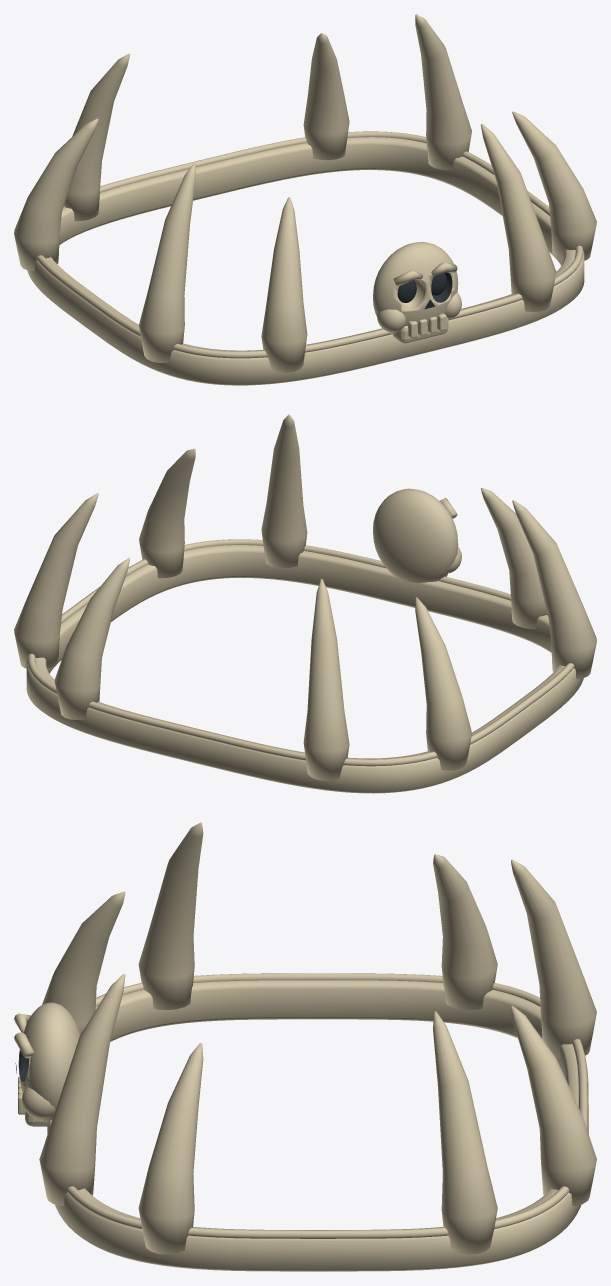
The model's file is bone-crown.glb.
The picture shows the model from 3 angles, top to bottom: view 1: azimuth 30°, elevation 25°; view 2: azimuth 150°, elevation 25°; view 3: azimuth 270°, elevation 25°; orthographic projection. The views are drawn at different scales.
Visible parts, largest first — view 1: Bone Crown Aged ivory assembly, Bone Crown Dark inner lining assembly; view 2: Bone Crown Aged ivory assembly; view 3: Bone Crown Aged ivory assembly.
Part boxes in pixels (<box>): Bone Crown Aged ivory assembly: <box>14,14,596,385</box>; Bone Crown Dark inner lining assembly: <box>397,272,446,309</box>; Bone Crown Aged ivory assembly: <box>14,414,596,793</box>; Bone Crown Aged ivory assembly: <box>14,822,596,1271</box>.
Size of the model in its own units: 0.8112 by 0.3189 by 0.7473.
